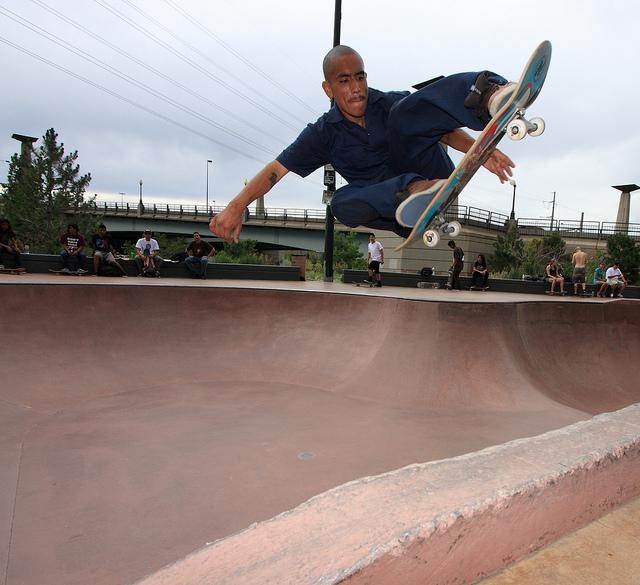person: (201, 43, 519, 258), (88, 221, 127, 280), (180, 232, 215, 284), (133, 227, 166, 279), (361, 232, 389, 290), (57, 222, 87, 274), (437, 241, 466, 291), (571, 245, 592, 294), (543, 259, 569, 297), (468, 255, 492, 293), (608, 264, 628, 297), (595, 262, 608, 300)
